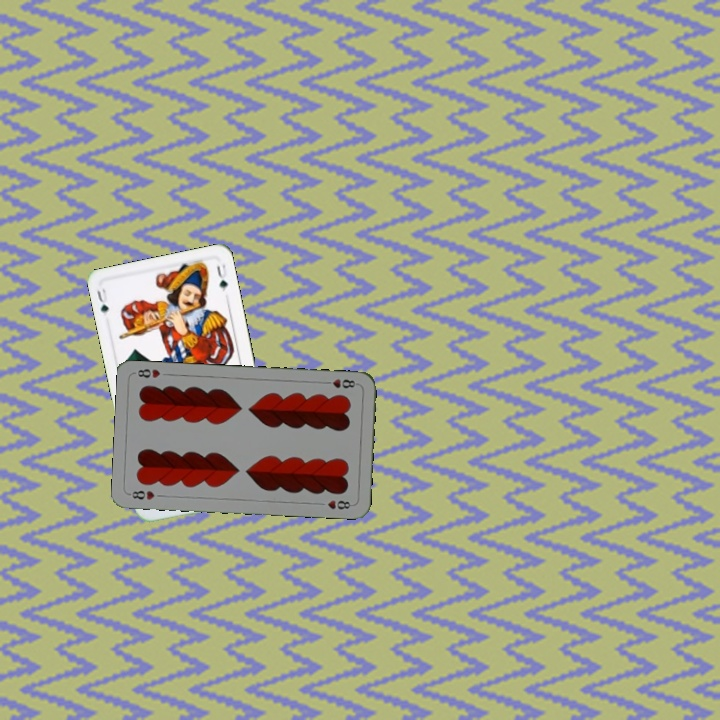GU: (93, 283, 111, 316)
H8: (320, 375, 360, 391), (126, 486, 157, 502)
